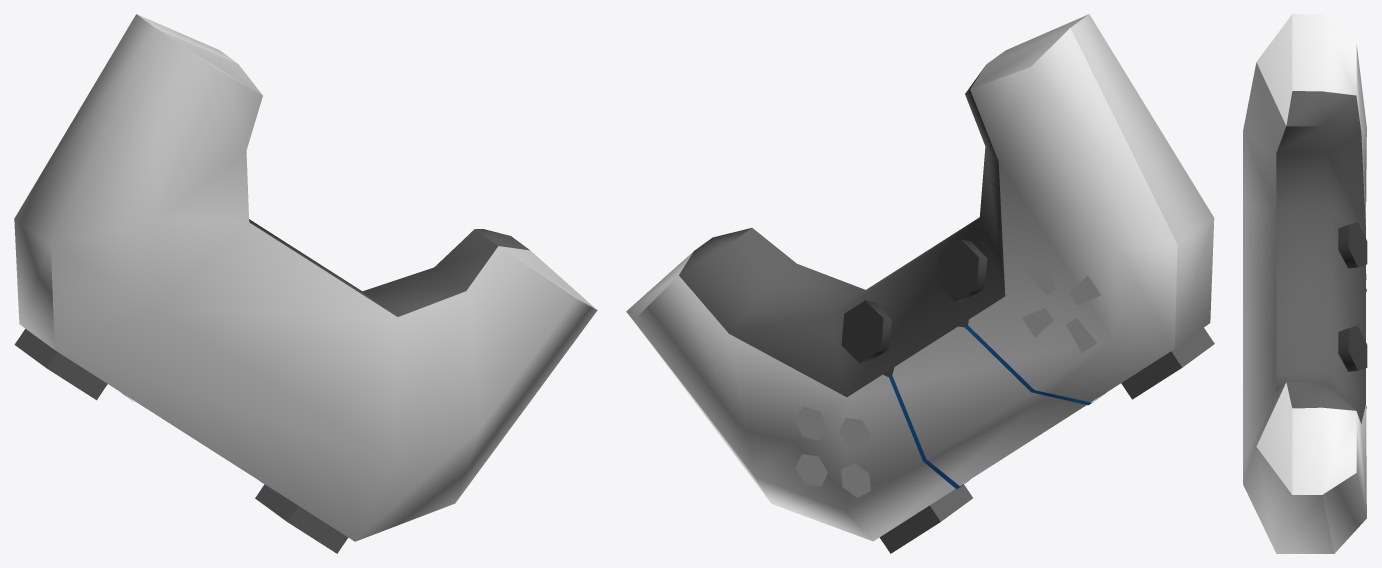
The model's file is desk-gadget.glb.
3 views of the same model, side by side, from view 1: azimuth 30°, elevation 25°; view 2: azimuth 150°, elevation 25°; view 3: azimuth 270°, elevation 25° (orthographic). The views are drawn at different scales.
Visible parts, largest first — view 1: electronics_013; view 2: electronics_013; view 3: electronics_013.
Boxes of the visible parts, box(x1,y1,x2,y2) form: electronics_013: box(14, 14, 597, 553); electronics_013: box(626, 14, 1214, 553); electronics_013: box(1243, 14, 1367, 553).
Bounding box in the file's own units: 0.2201 × 0.2116 × 0.0537.
1 material, 1 textured.
